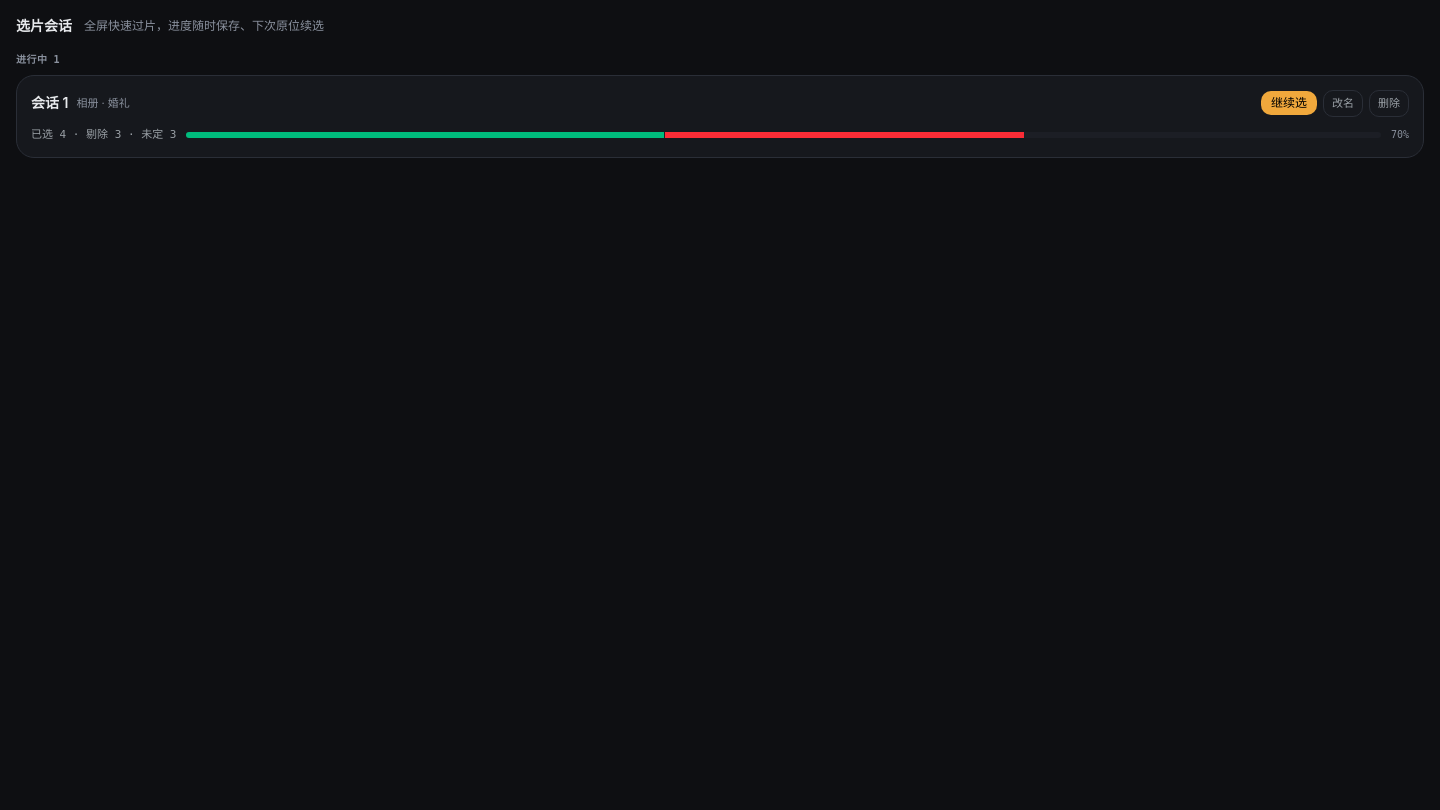
Test: 选片会话页（CullingPage /culling） › 改名：cullSessionRename + 本地更新
Click the button with test id "culling-session-rename": (1343, 103) x1=1323 y1=90 x2=1363 y2=116
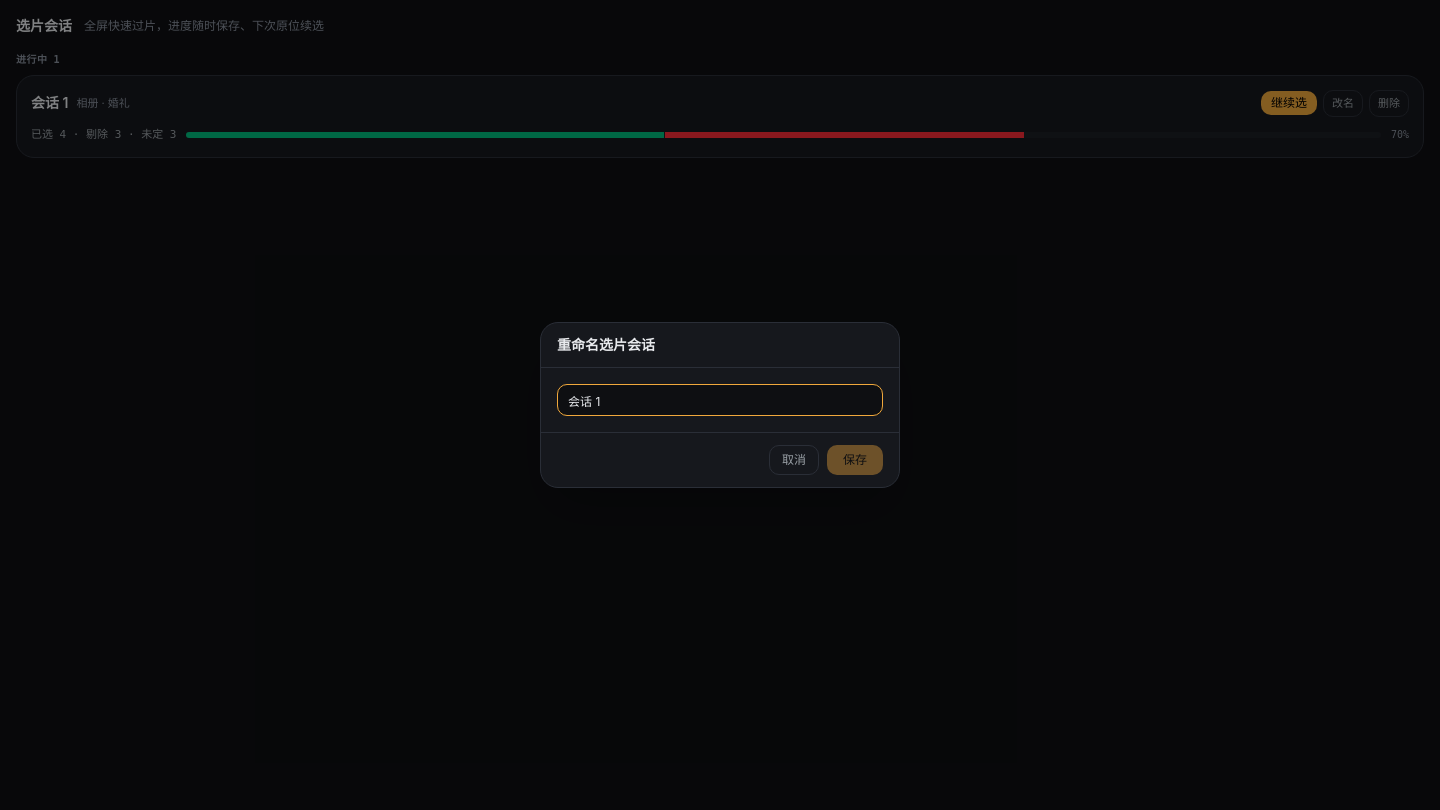
Replace the text in the field with test id "culling-rename-input" with "复选": (720, 400) x1=557 y1=384 x2=883 y2=416
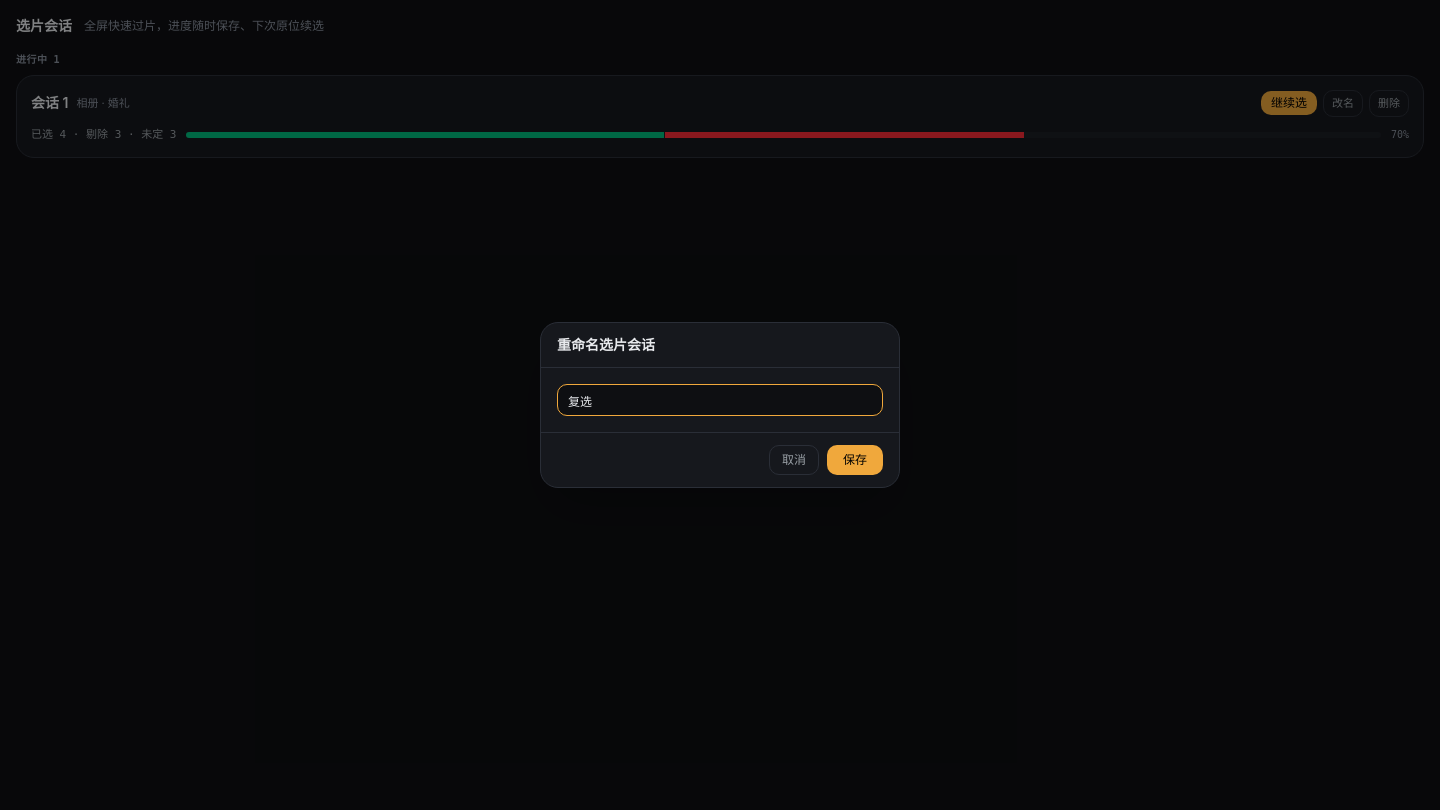
Click the button with test id "culling-rename-confirm": (855, 460) x1=827 y1=445 x2=883 y2=475
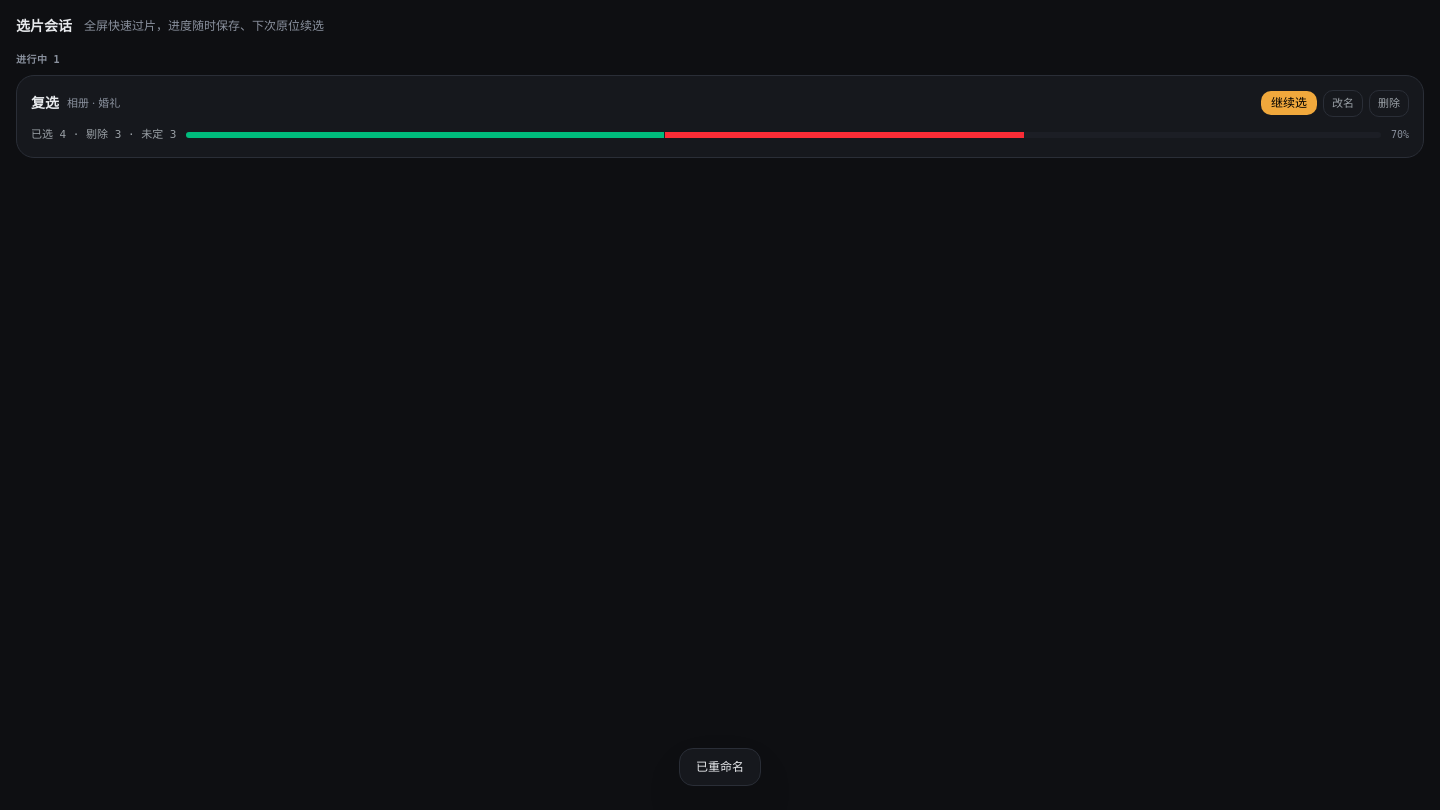
Expected: the button with test id "culling-session-name" reads "复选", x1=31 y1=93 x2=59 y2=113
